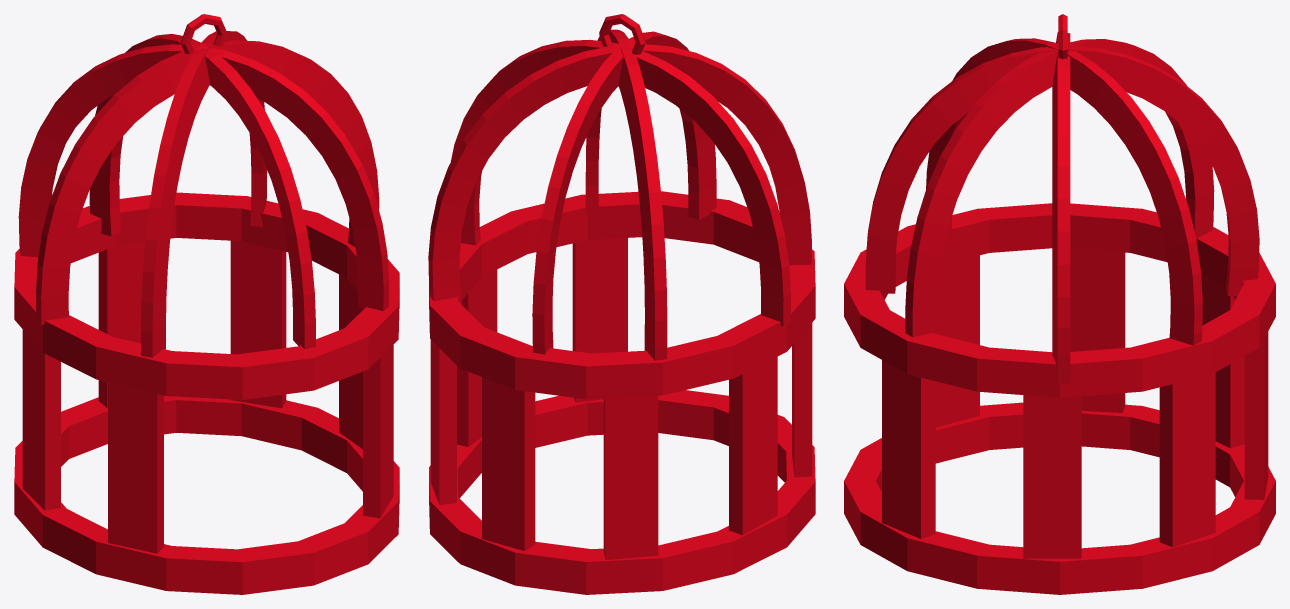
The model's file is Cage.fbx.
The picture shows the model from 3 angles, left to right: view 1: azimuth 30°, elevation 25°; view 2: azimuth 150°, elevation 25°; view 3: azimuth 270°, elevation 25°; orthographic projection.
Parts seen in each view (by area): view 1: Cage; view 2: Cage; view 3: Cage.
Part boxes in pixels (bbox=[...]): Cage: bbox=[14, 14, 399, 594]; Cage: bbox=[428, 14, 815, 594]; Cage: bbox=[844, 14, 1275, 594].
Bounding box in the file's own units: 193 × 269 × 211.
